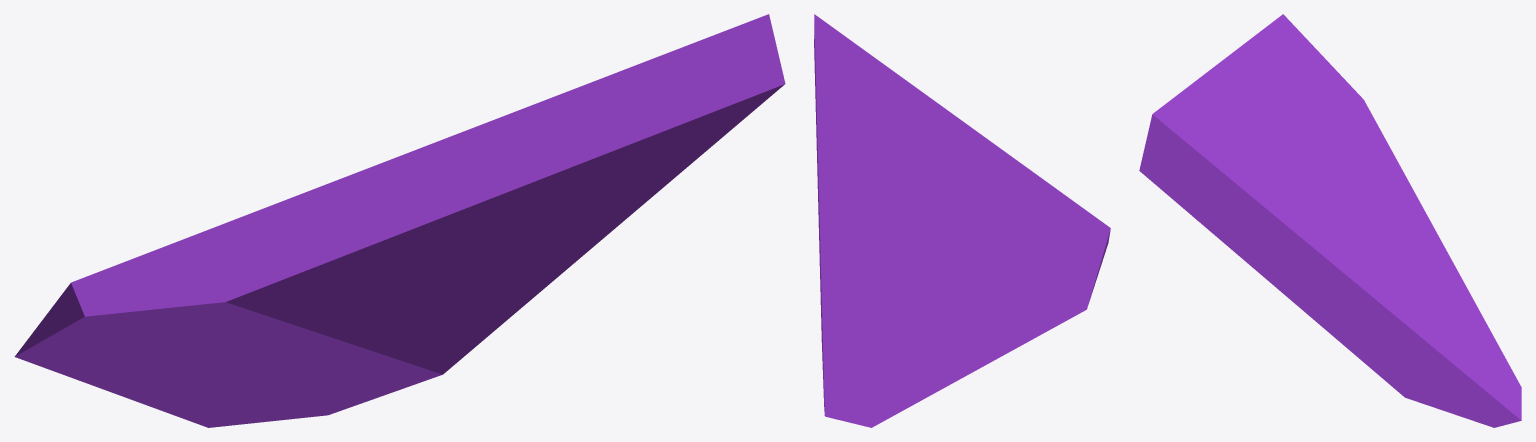
File: Window_123_1_chunks.fbx
3 views of the same model, side by side, from view 1: azimuth 30°, elevation 25°; view 2: azimuth 150°, elevation 25°; view 3: azimuth 270°, elevation 25° (orthographic). The views are drawn at different scales.
Visible parts, largest first — view 1: Window_123_1_0, Window_123_1_5, Window_123_1_1, Window_123_1_6, Window_123_1_4, Window_123_1_3; view 2: Window_123_1_0, Window_123_1_1, Window_123_1_6, Window_123_1_5, Window_123_1_3, Window_123_1_2, Window_123_1_4; view 3: Window_123_1_1, Window_123_1_6, Window_123_1_0, Window_123_1_4, Window_123_1_5, Window_123_1_3, Window_123_1_2.
Part boxes in pixels (<box>): Window_123_1_0: <box>14,168,368,387</box>; Window_123_1_5: <box>355,87,683,273</box>; Window_123_1_1: <box>99,327,498,427</box>; Window_123_1_6: <box>560,14,785,226</box>; Window_123_1_4: <box>407,206,641,331</box>; Window_123_1_3: <box>326,270,459,334</box>; Window_123_1_0: <box>936,137,1110,360</box>; Window_123_1_1: <box>820,276,992,427</box>; Window_123_1_6: <box>814,14,900,216</box>; Window_123_1_5: <box>895,72,984,182</box>; Window_123_1_3: <box>858,166,969,253</box>; Window_123_1_2: <box>821,220,943,276</box>; Window_123_1_4: <box>817,172,864,291</box>; Window_123_1_1: <box>1362,210,1521,427</box>; Window_123_1_6: <box>1139,87,1327,265</box>; Window_123_1_0: <box>1227,14,1431,224</box>; Window_123_1_4: <box>1251,228,1388,360</box>; Window_123_1_5: <box>1188,57,1288,167</box>; Window_123_1_3: <box>1258,93,1363,262</box>; Window_123_1_2: <box>1314,160,1393,314</box>.
Bounding box in the file's own units: 870 × 658 × 564.
